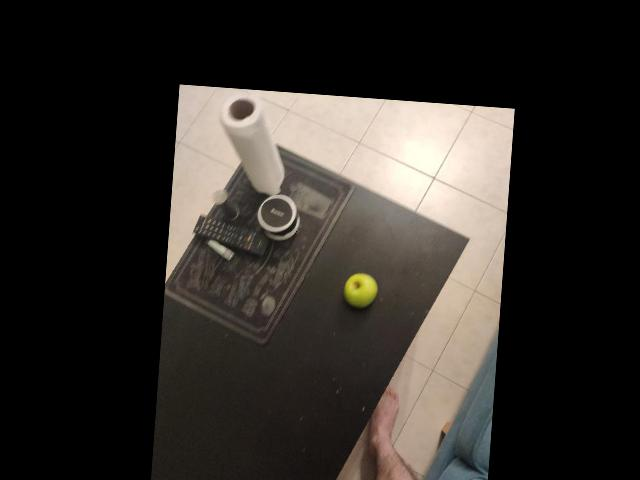apple: (331, 270, 379, 325)
